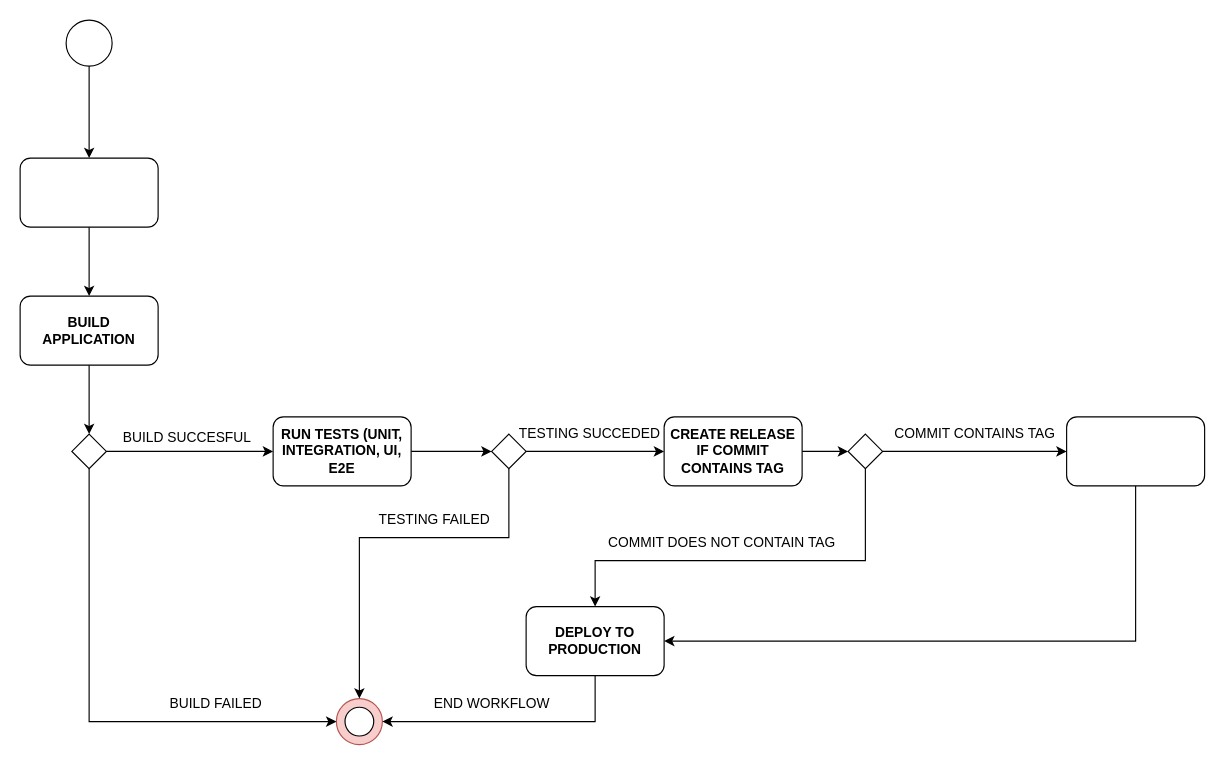
The diagram is 1225 pixels wide and 765 high, and some of its shapes have lost their labels. The box of each missing label's shape, as (x1, y1, x2, y2) in pixels:
CODE PUSHED TO REPOSITORY: (19, 157, 158, 227)
CREATE RELEASE: (1065, 416, 1205, 486)
